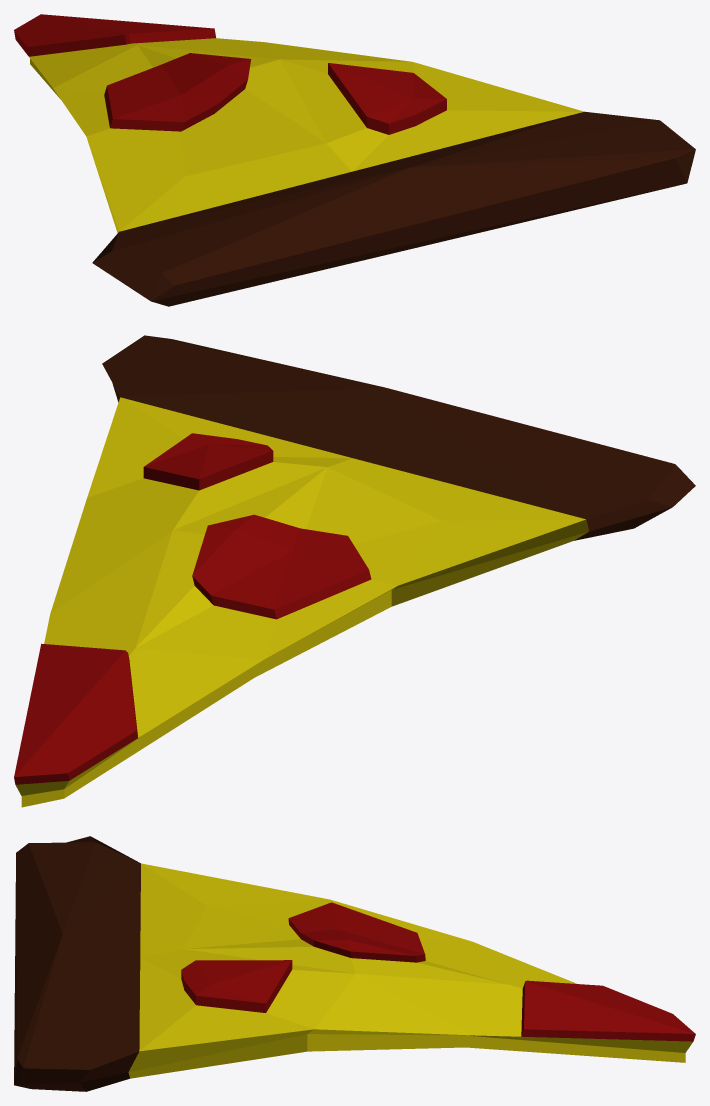
Rendered from pizzafix.obj.
3 views of the same model, one above another, from view 1: azimuth 30°, elevation 25°; view 2: azimuth 150°, elevation 25°; view 3: azimuth 270°, elevation 25° (orthographic). The views are drawn at different scales.
Parts seen in each view (by area): view 1: Plane.001; view 2: Plane.001; view 3: Plane.001.
Boxes of the visible parts, bbox=[...] form: Plane.001: bbox=[14, 14, 695, 306]; Plane.001: bbox=[14, 335, 695, 807]; Plane.001: bbox=[14, 836, 695, 1091].
Bounding box in the file's own units: 6.7 × 1.71 × 8.14.
